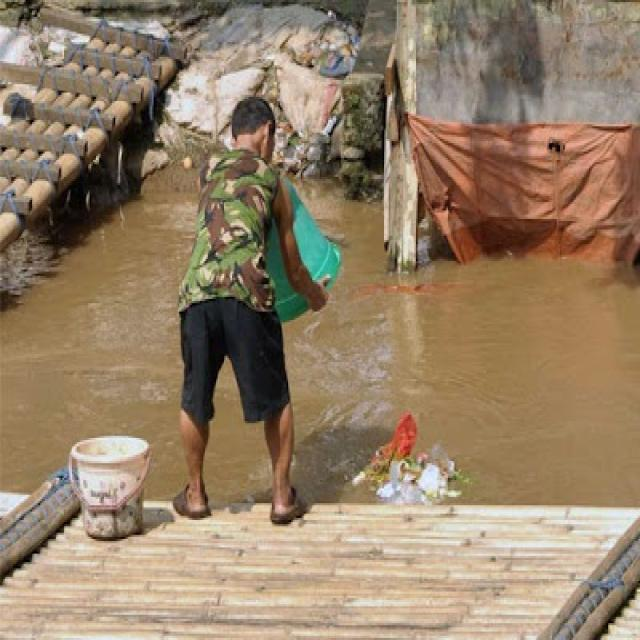sampah-detection: (348, 411, 471, 513)
